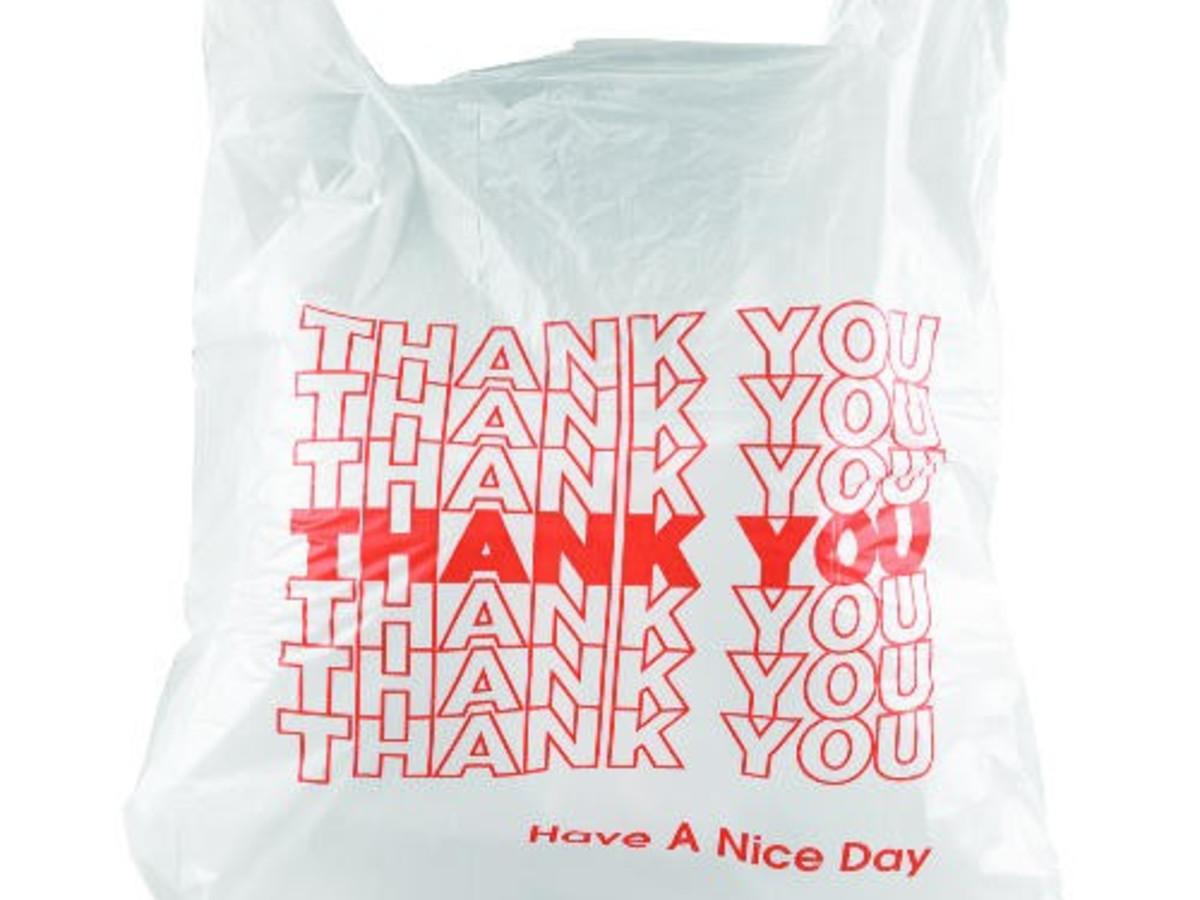LDPE: (122, 0, 1065, 900)
